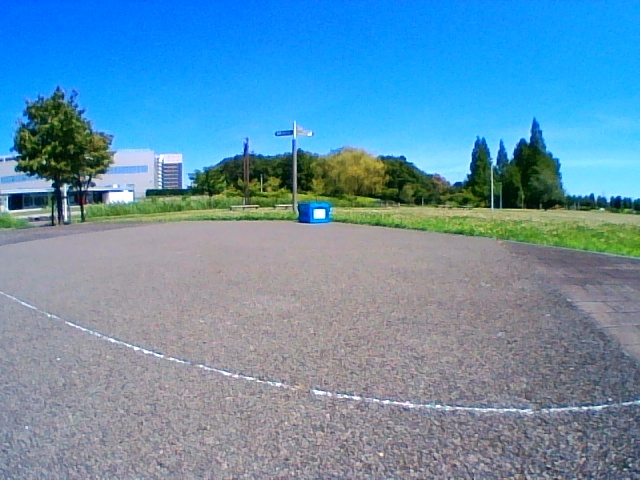blue_box: (297, 201, 329, 224)
tag: (314, 208, 324, 219)
